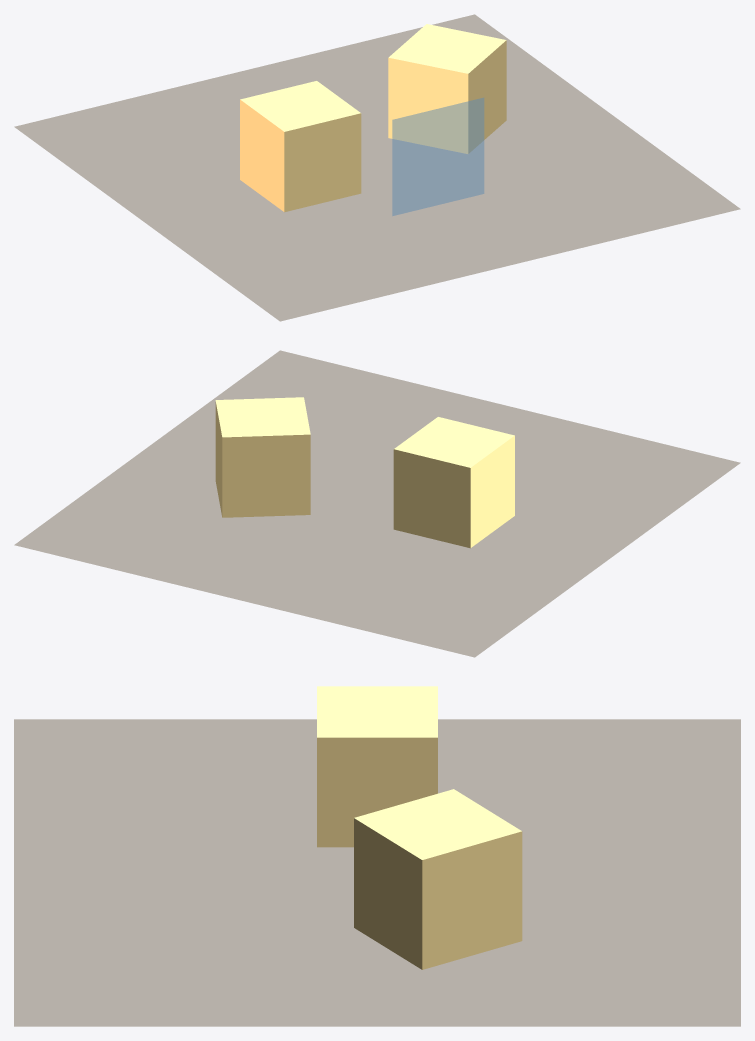
Rendered from sample.glb.
3 renders of one model, top to bottom at view 1: azimuth 30°, elevation 25°; view 2: azimuth 150°, elevation 25°; view 3: azimuth 270°, elevation 25°, orthographic. The views are drawn at different scales.
Parts seen in each view (by area): view 1: ground, cube-a, cube-b, pane; view 2: ground, cube-a, cube-b; view 3: ground, cube-b, cube-a.
Boxes of the visible parts, x1,y1,x2,y2 form: ground: (14,14,740,321); cube-a: (240,81,361,212); cube-b: (388,24,506,153); pane: (392,97,484,215); ground: (14,350,740,657); cube-a: (393,417,514,548); cube-b: (215,397,310,517); ground: (14,719,740,1026); cube-b: (354,789,522,969); cube-a: (317,686,437,847).
Size of the model in its own units: 6 by 1.2 by 6.
